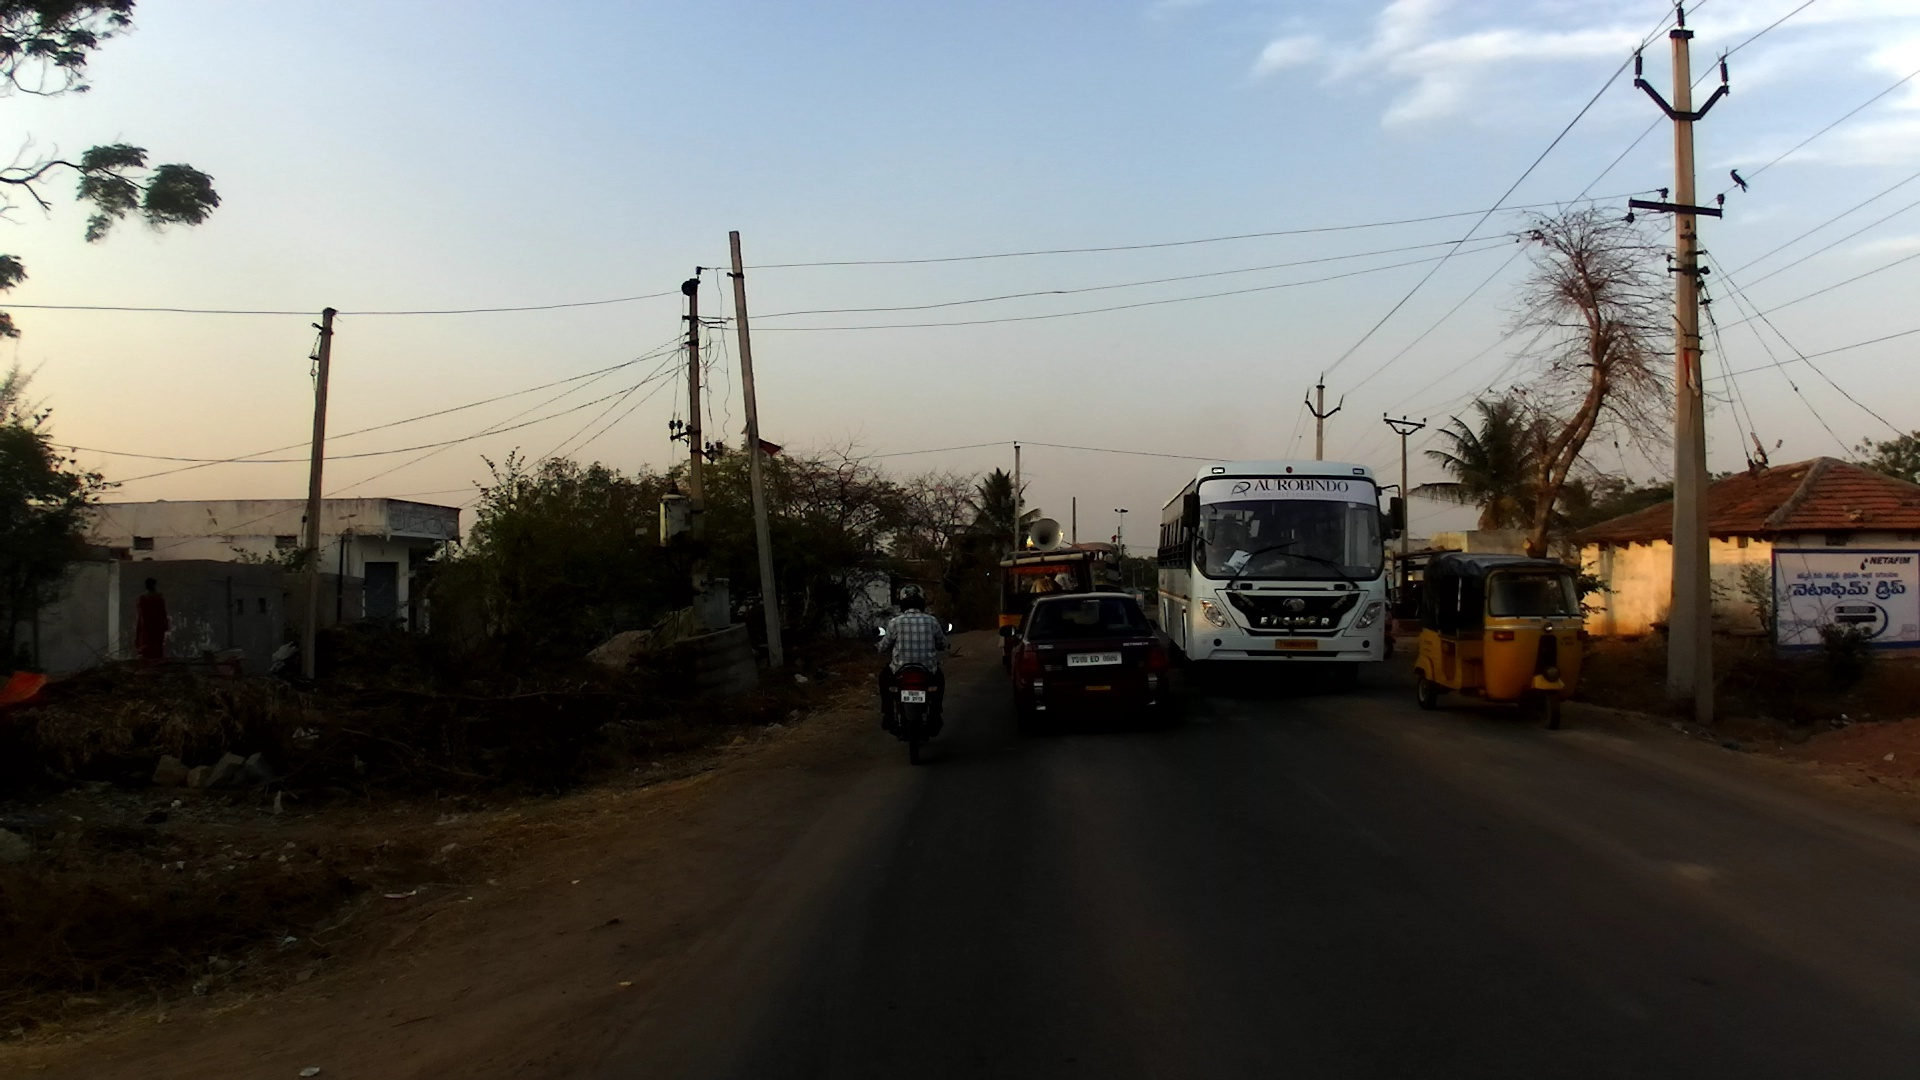autorickshaw: (1413, 549, 1589, 728), (997, 517, 1094, 687)
bus: (1160, 456, 1409, 694)
car: (1000, 592, 1166, 739)
motorcycle: (872, 620, 951, 765)
person: (132, 576, 174, 657)
rider: (870, 582, 950, 734)
vehicle fallback: (1074, 539, 1126, 593), (1380, 596, 1401, 660)
